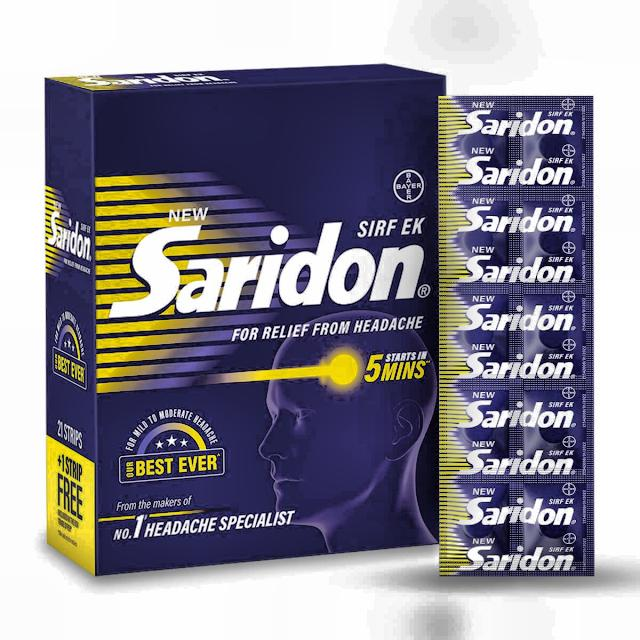Saridon: (95, 93, 430, 550), (439, 102, 591, 572)
